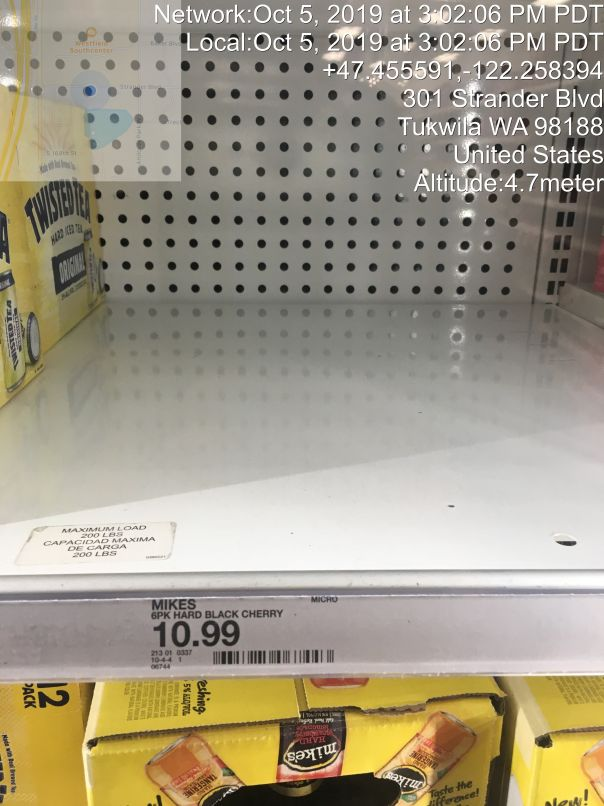Label: (130, 590, 348, 679)
Location: (392, 85, 604, 167)
Time: (151, 2, 604, 56)
Void: (107, 85, 534, 518)
